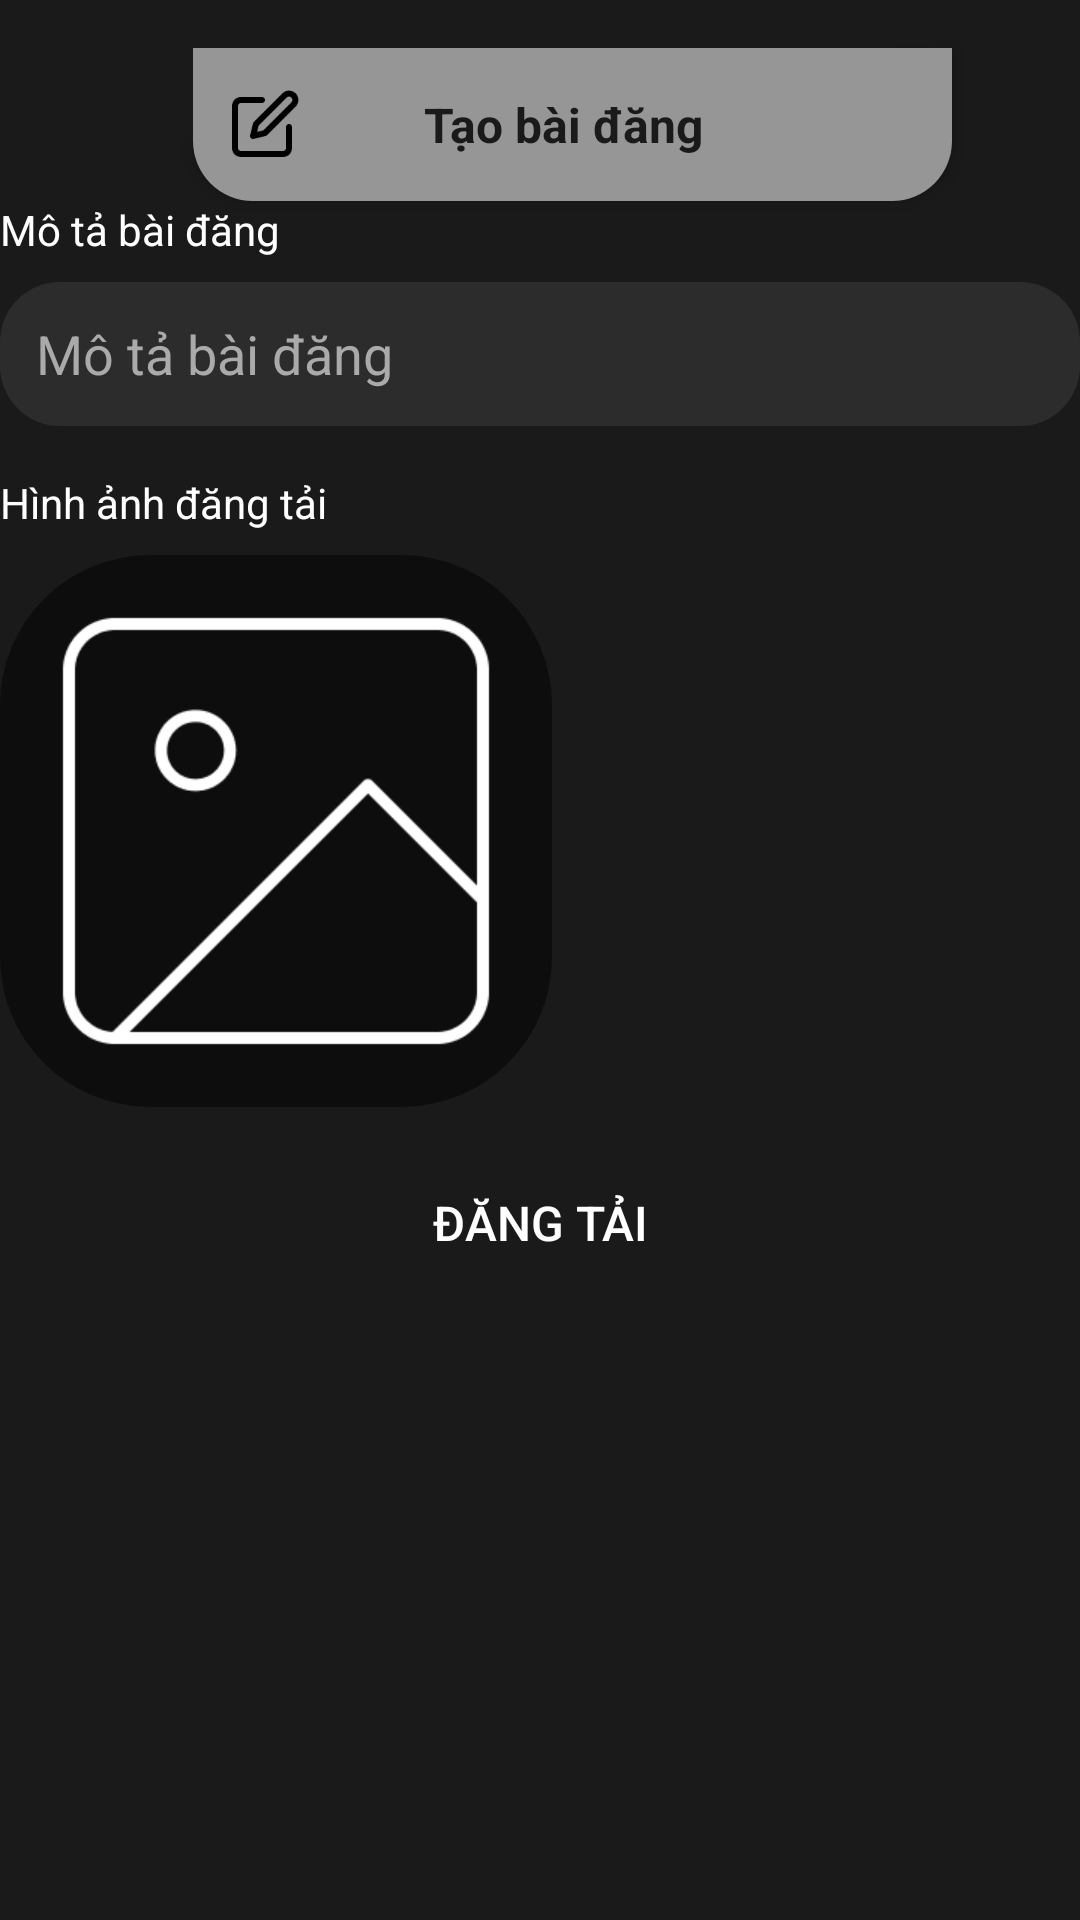

Icon click points for this 1080w x 1920h phone screenshot, format (x=x, y=y):
penblackadmin: (x=265, y=123)
